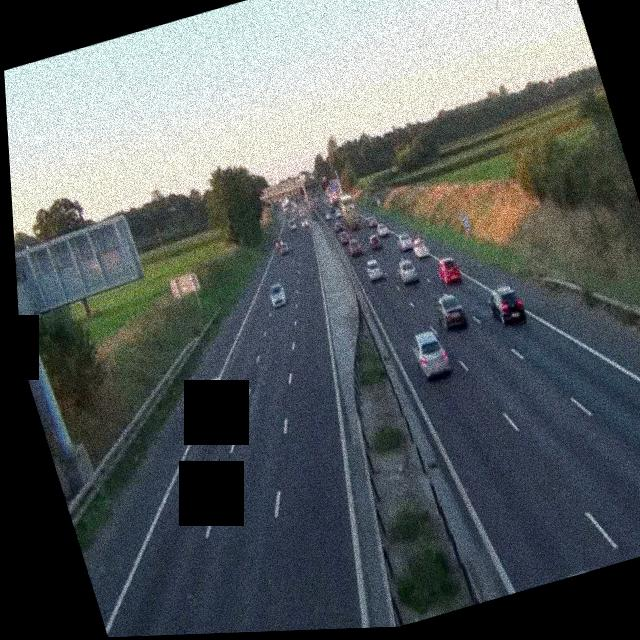bus: (336, 190, 365, 232)
car: (190, 374, 237, 430), (409, 327, 452, 382), (483, 280, 529, 329), (432, 290, 469, 332), (434, 254, 463, 287), (395, 256, 422, 286), (265, 280, 288, 308), (363, 257, 386, 283), (409, 236, 431, 261), (395, 230, 414, 252), (345, 238, 363, 258), (366, 230, 383, 249), (375, 220, 391, 237), (338, 230, 353, 247), (277, 239, 290, 257), (363, 213, 375, 229), (299, 217, 310, 229)
